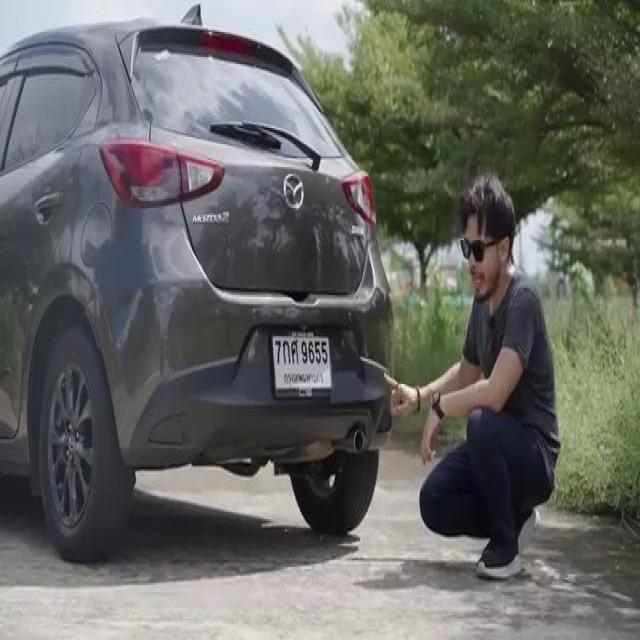Hatchback: (0, 5, 392, 560)
